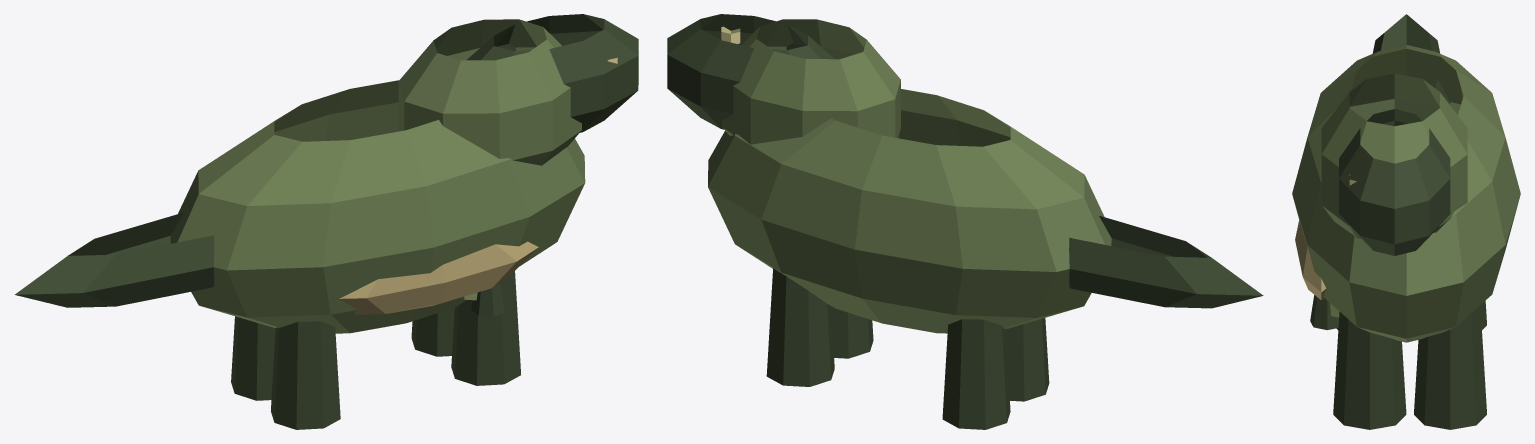
File: rex.obj
The picture shows the model from 3 angles, left to right: view 1: azimuth 30°, elevation 25°; view 2: azimuth 150°, elevation 25°; view 3: azimuth 270°, elevation 25°; orthographic projection. The views are drawn at different scales.
Parts seen in each view (by area): view 1: rex; view 2: rex; view 3: rex.
Boxes of the visible parts, left/top/right/bottom form: rex: left=14, top=14, right=638, bottom=429; rex: left=667, top=14, right=1263, bottom=429; rex: left=1292, top=14, right=1520, bottom=429.
Size of the model in its own units: 4.93 by 2.43 by 1.56.
